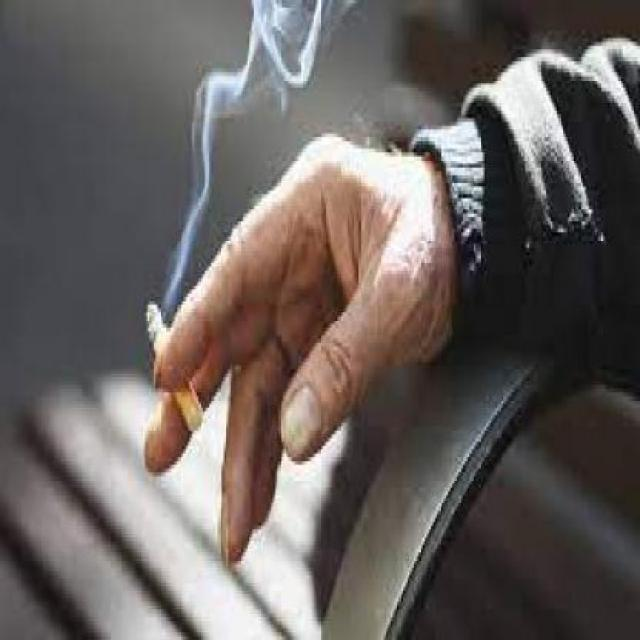cigarette: (142, 289, 208, 434)
